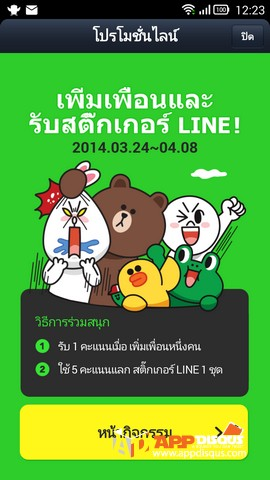line_brown: (84, 170, 175, 263)
